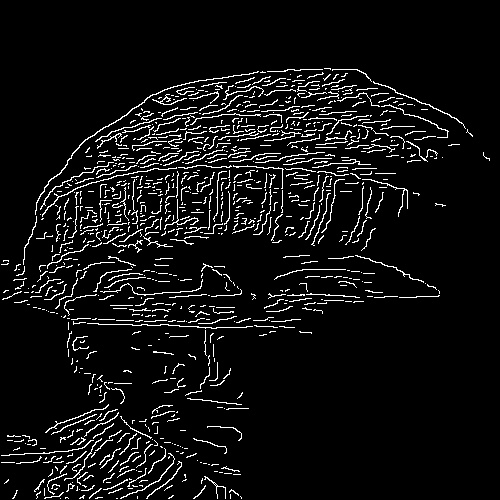mask: (71, 318, 315, 453)
